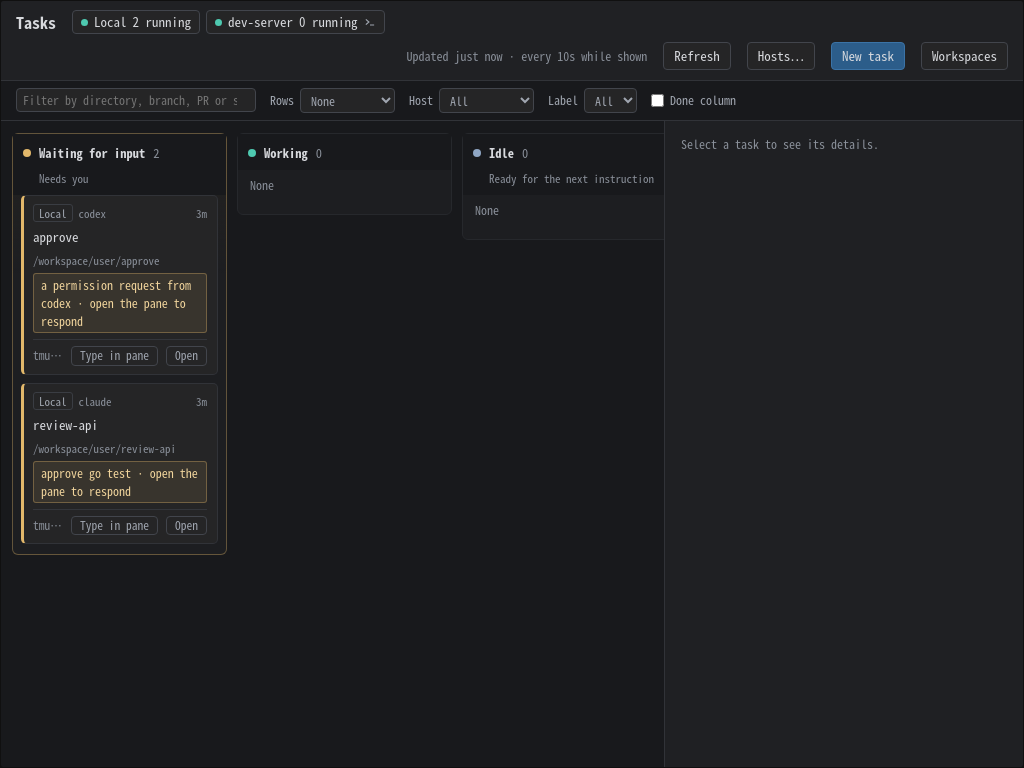
Test: TaskDashboard Type in pane: codex permission wait › drops the failure of one wait when the next starts
The image size is (1024, 768).
Step 1. Click the button "Type in pane" next to "tmux approve · no pane" → (114, 356), box [71, 346, 158, 366]
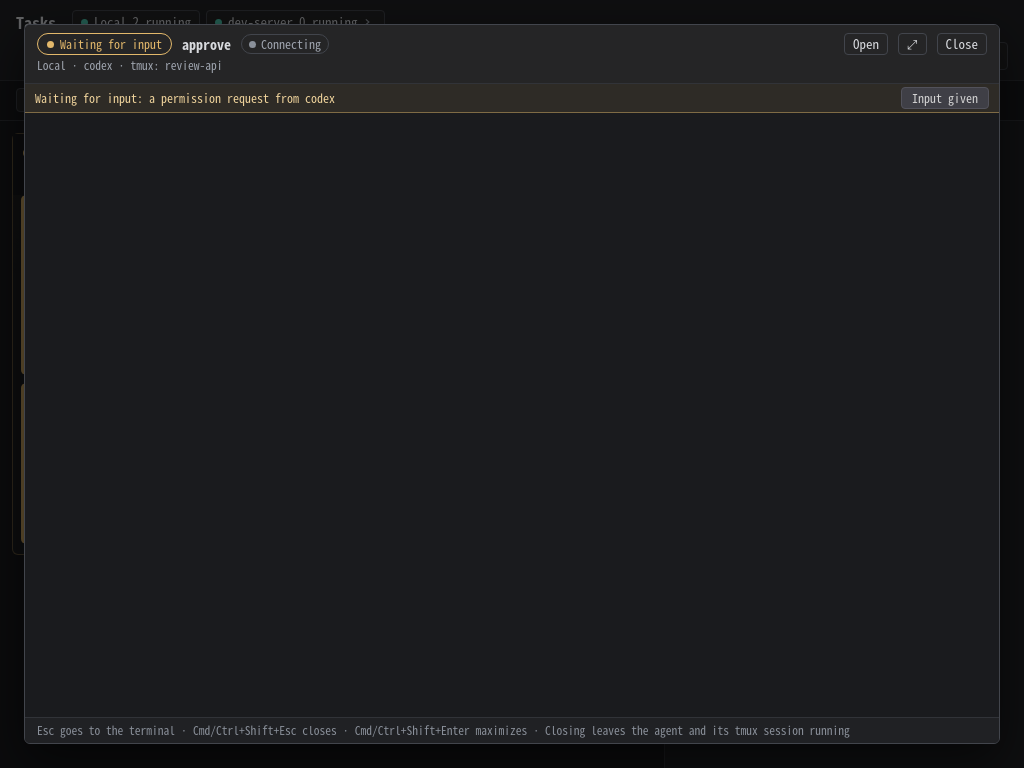
Step 2. Click the button "Input given" → (945, 98), box [901, 87, 989, 109]
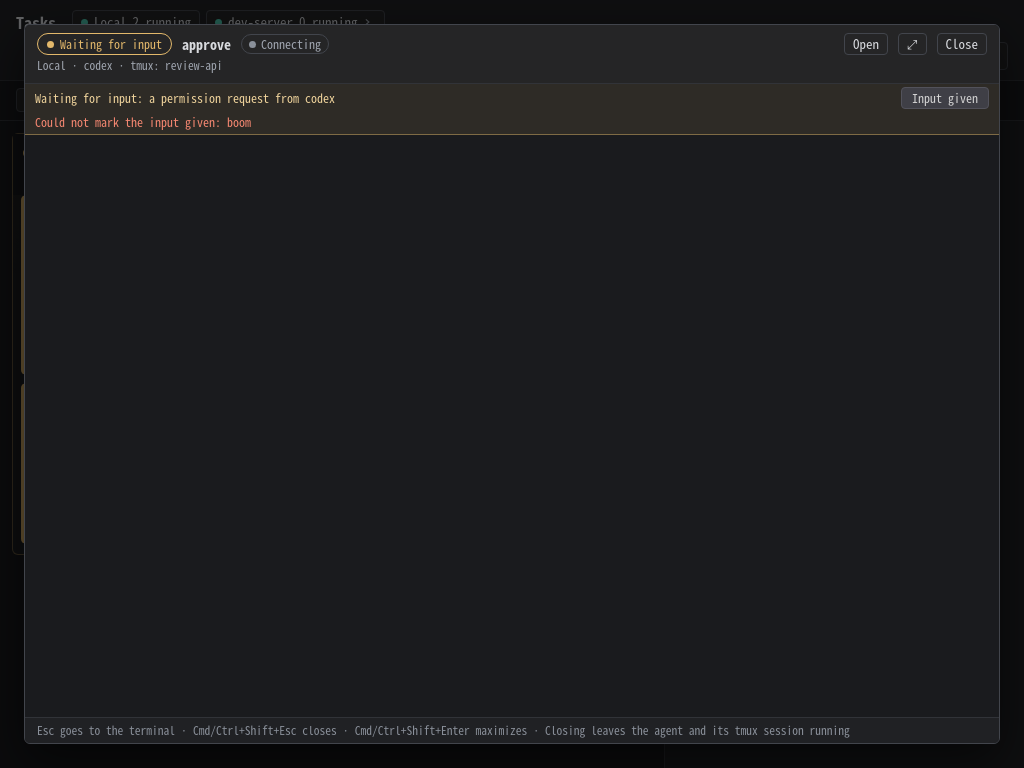
Now the message reads "Could not mark the input given: boom", box [35, 113, 251, 130]
